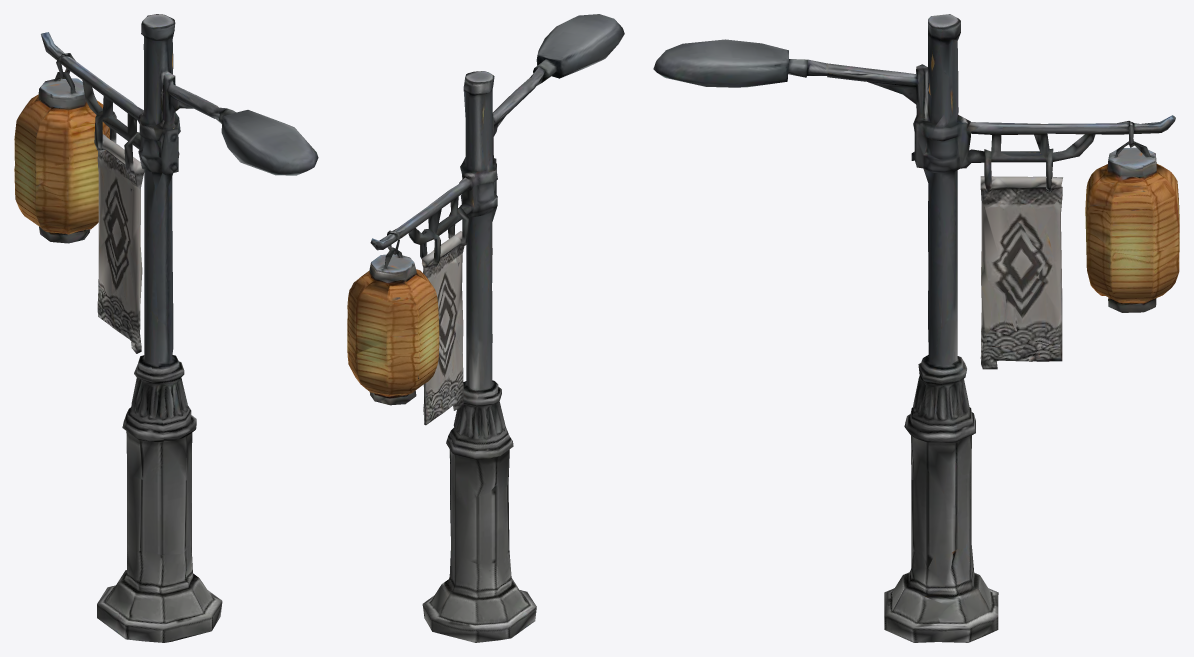
File: au_env_lantern_post.glb
The picture shows the model from 3 angles, left to right: view 1: azimuth 30°, elevation 25°; view 2: azimuth 150°, elevation 25°; view 3: azimuth 270°, elevation 25°; orthographic projection. The views are drawn at different scales.
Visible parts, largest first — view 1: tripo_node_8f544ee7-9ccf-439e-9d40-3be3b1891962; view 2: tripo_node_8f544ee7-9ccf-439e-9d40-3be3b1891962; view 3: tripo_node_8f544ee7-9ccf-439e-9d40-3be3b1891962.
Part boxes in pixels (box(x1,y1,x2,y2)): tripo_node_8f544ee7-9ccf-439e-9d40-3be3b1891962: box(14, 14, 318, 642); tripo_node_8f544ee7-9ccf-439e-9d40-3be3b1891962: box(347, 14, 624, 642); tripo_node_8f544ee7-9ccf-439e-9d40-3be3b1891962: box(653, 14, 1179, 642).
Size of the model in its own units: 0.1672 by 0.9798 by 0.7793.
Materials: 1 (1 with a texture image).
